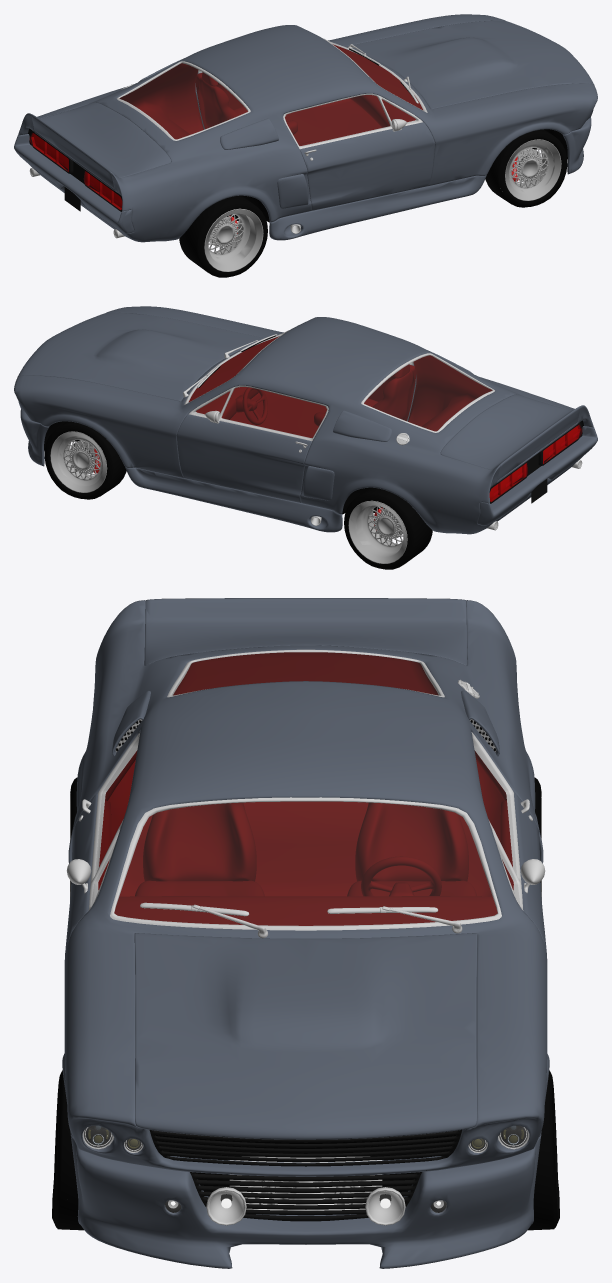
Rendered from coupe.glb.
3 views of the same model, one above another, from view 1: azimuth 30°, elevation 25°; view 2: azimuth 150°, elevation 25°; view 3: azimuth 270°, elevation 25° (orthographic). The views are drawn at different scales.
Visible parts, largest first — view 1: body, wheel_rr, wheel_fr; view 2: body, wheel_rl, wheel_fl; view 3: body, wheel_fl, wheel_fr.
Part boxes in pixels (x1,y1,x2,y2): body: (14,14,597,242); wheel_rr: (179,195,267,277); wheel_fr: (487,129,567,207); body: (14,306,597,534); wheel_rl: (344,487,432,569); wheel_fl: (44,421,124,499); body: (56,598,555,1268); wheel_fl: (534,1070,559,1226); wheel_fr: (52,1070,77,1226).
Size of what is drawn, in the model's own units: 4.63 by 1.35 by 2.03.
Materials: 28 (3 with a texture image).
